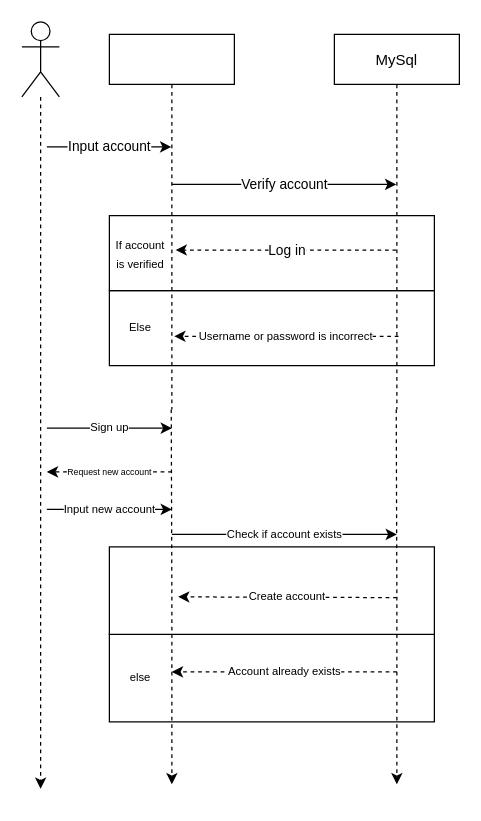
Image size: 481x821. Some labels were removed from this diagram. The shapes that lost their labels are listed below. From the top down, each one's box as (x1, y1, x2, y2) in pixels, then its label:
(108, 33, 234, 409): Program
(108, 546, 434, 634): If account exists
